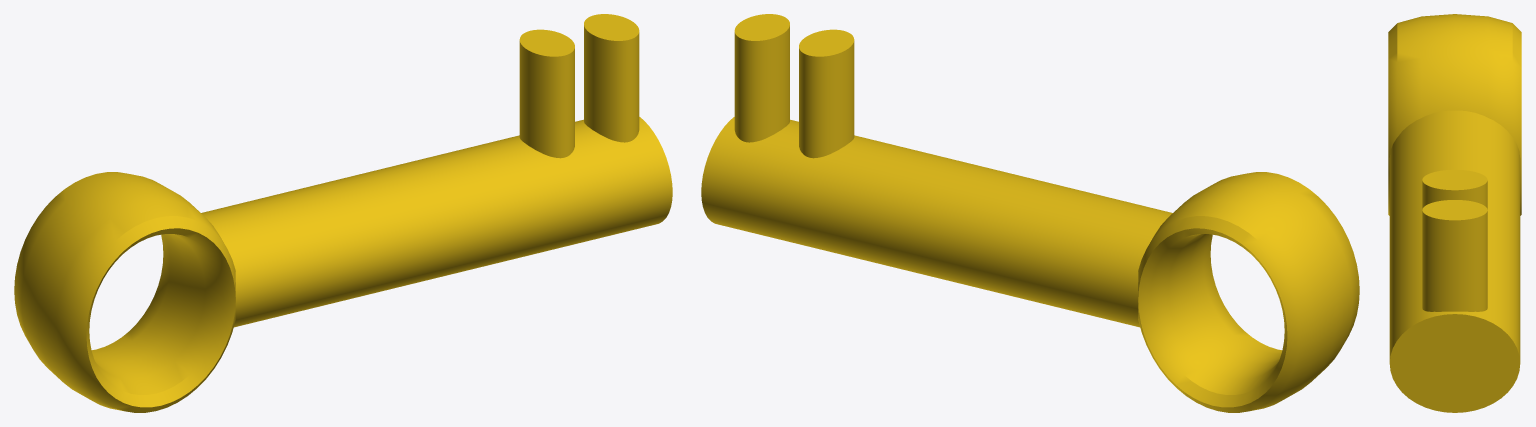
Rendered from Key.fbx.
The picture shows the model from 3 angles, left to right: view 1: azimuth 30°, elevation 25°; view 2: azimuth 150°, elevation 25°; view 3: azimuth 270°, elevation 25°; orthographic projection. The views are drawn at different scales.
Visible parts, largest first — view 1: Cylinder; view 2: Cylinder; view 3: Cylinder.
Boxes of the visible parts, x1,y1,x2,y2 form: Cylinder: (14, 14, 672, 412); Cylinder: (701, 14, 1359, 412); Cylinder: (1388, 14, 1521, 412).
Bounding box in the file's own units: 50 × 20 × 10.
